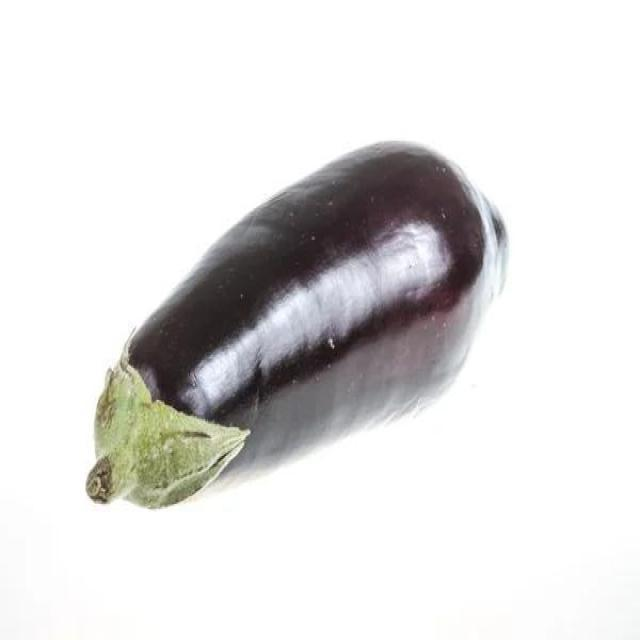Eggplant: (87, 141, 512, 510)
